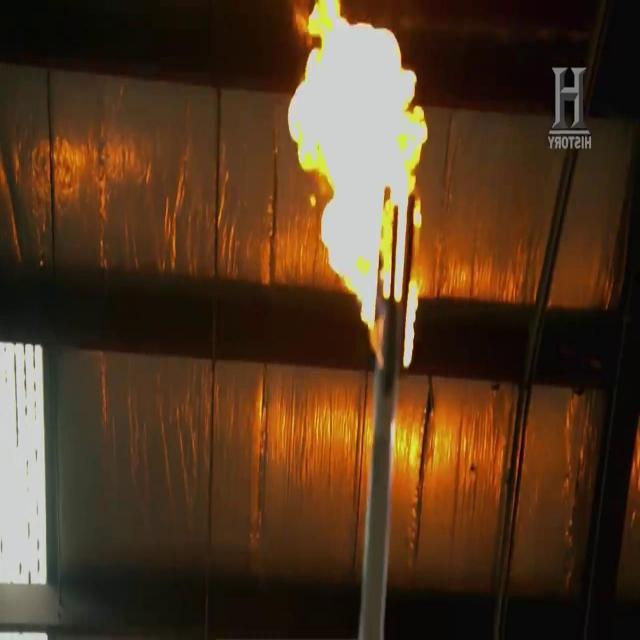fire: (280, 1, 437, 380)
